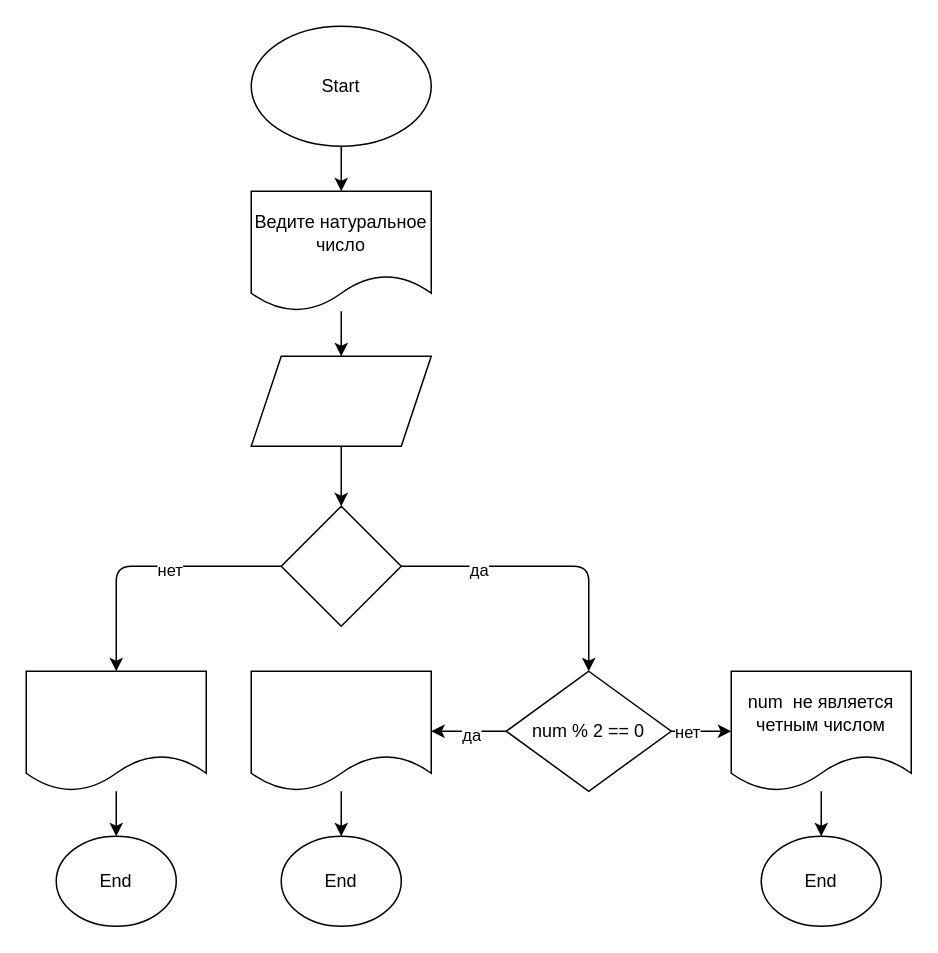
Some shapes in this 938 by 953 pixel diagram are drawn without their labels. Each missing label, with the box of its shape:
int num: (250, 355, 431, 446)
num > 0: (280, 505, 401, 626)
num является четным числом: (250, 670, 431, 791)
Введено некорректное значение: (25, 670, 206, 791)
